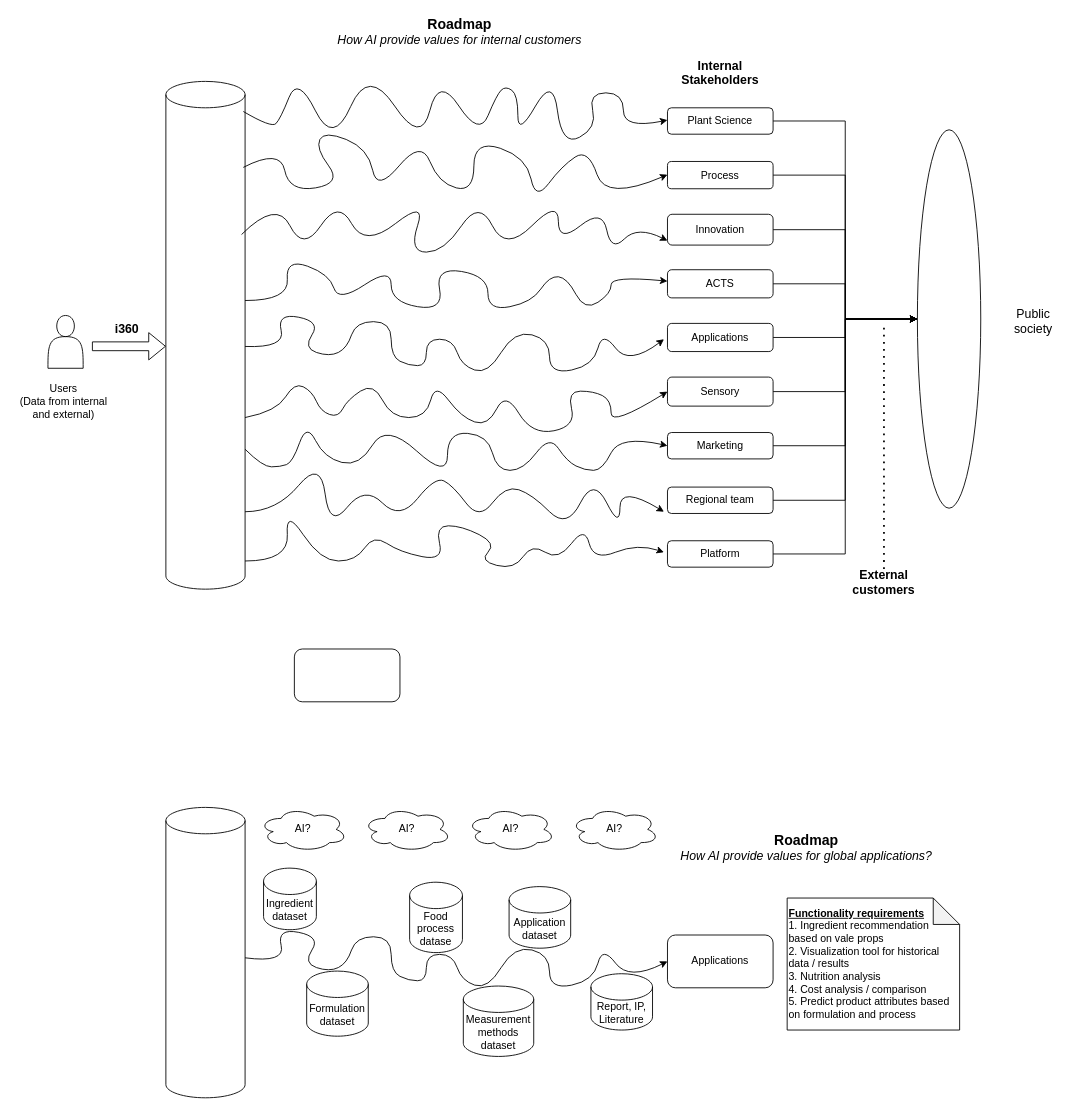
The diagram is 1074 pixels wide and 1113 high, and some of its shapes have lost their labels. Here are the shapes that lost their labels. From the top down, the centre of each, then its label:
[205,335]: Data
[949,318]: Vision
[346,675]: Culinology
[205,952]: Dataset
